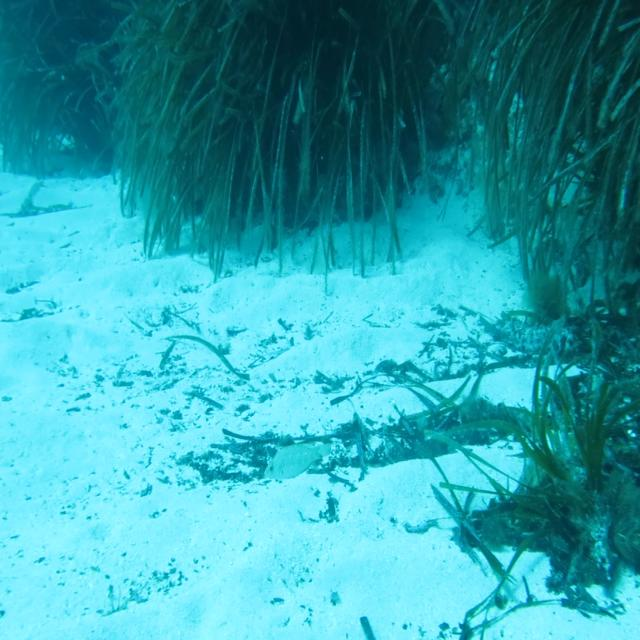BN: (262, 442, 333, 482)
vegetation: (123, 0, 434, 249), (442, 0, 640, 237), (506, 383, 640, 551), (0, 0, 119, 178)
